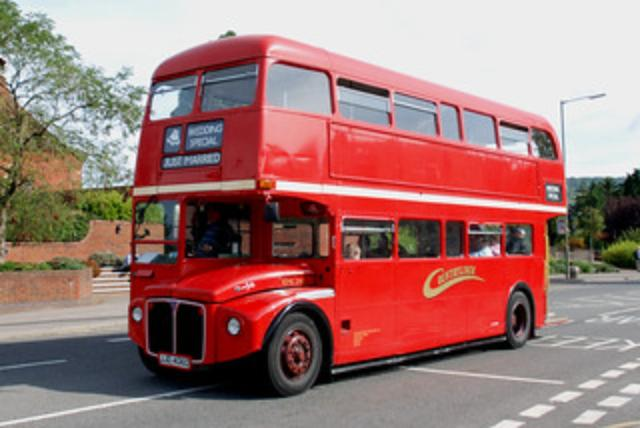bus: (128, 34, 568, 396)
